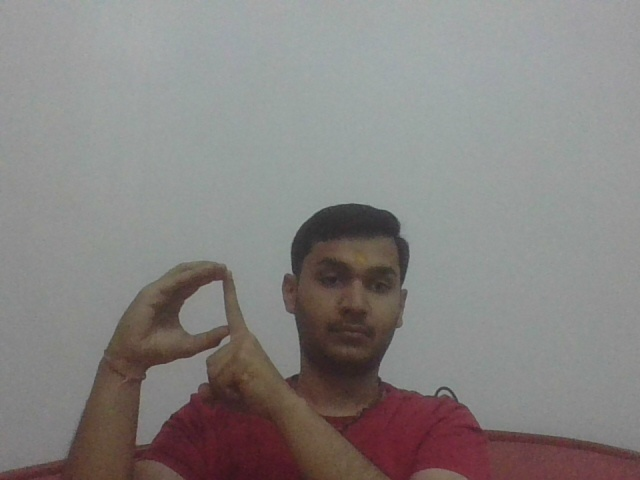D: (108, 258, 273, 403)
